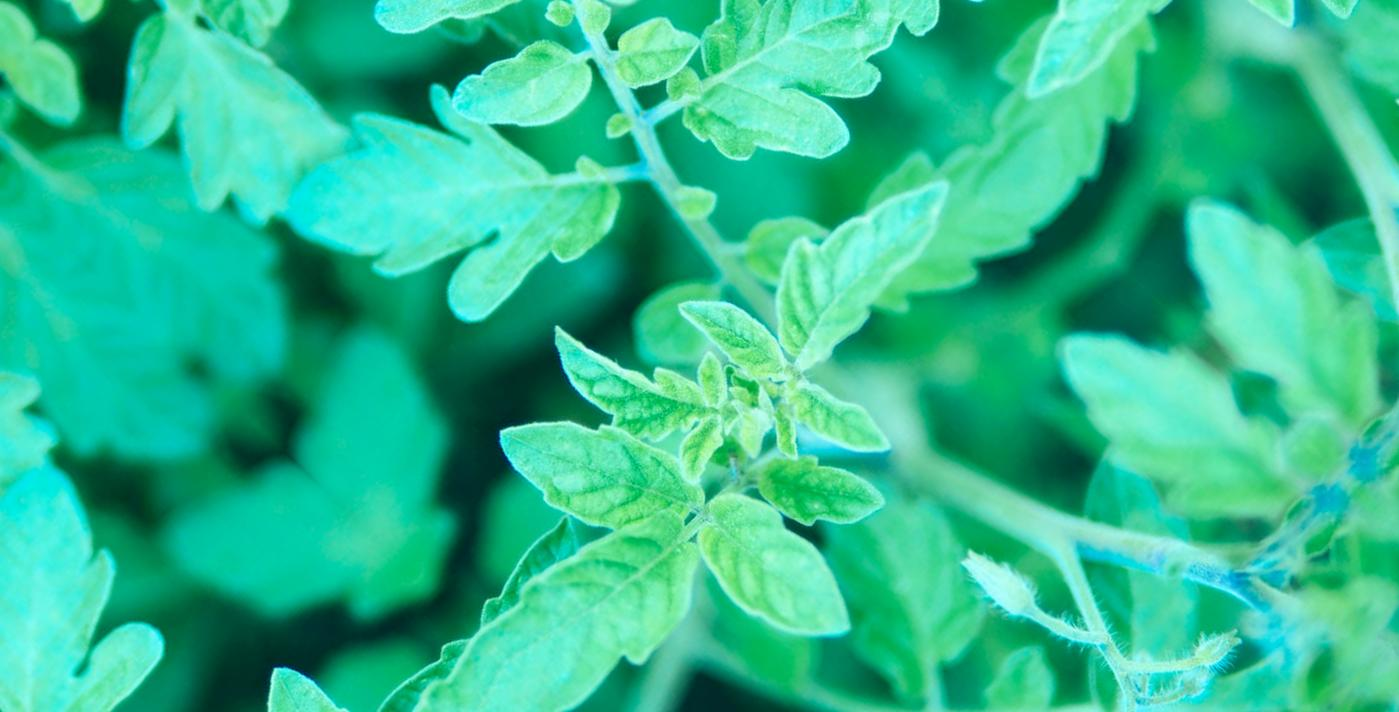Tomato leaf: (269, 7, 659, 398), (625, 0, 926, 239), (464, 344, 723, 600), (726, 136, 981, 396), (483, 467, 743, 712), (674, 471, 880, 673), (272, 0, 568, 91), (533, 0, 764, 64)
